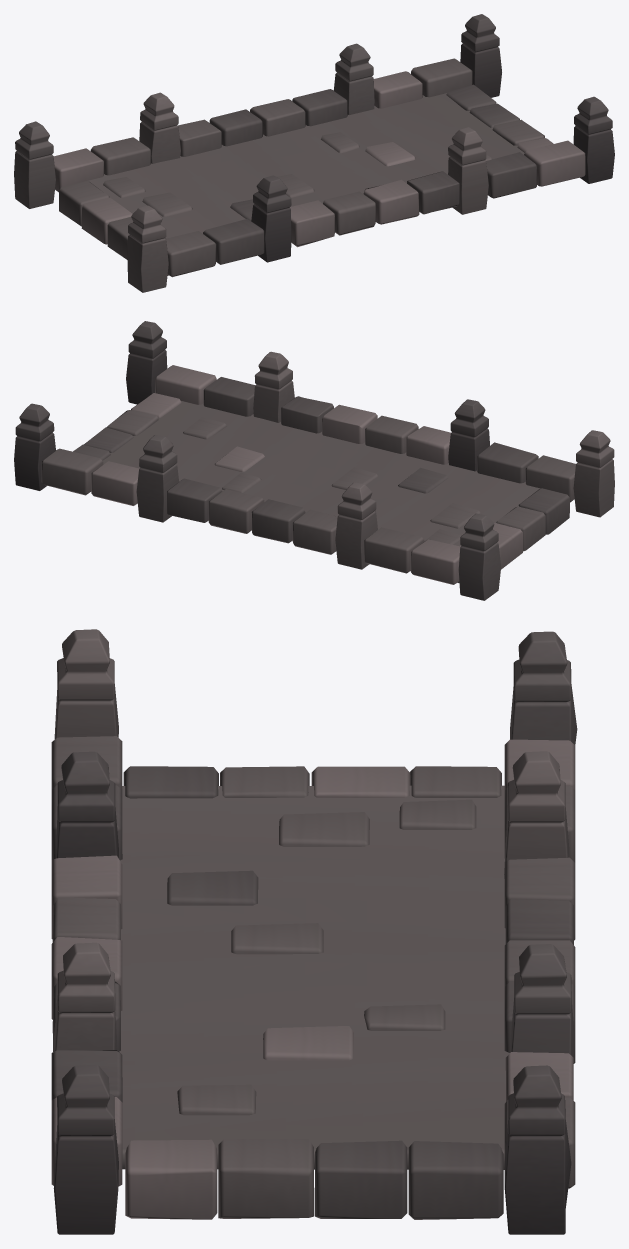
File: bridge.gltf
The picture shows the model from 3 angles, top to bottom: view 1: azimuth 30°, elevation 25°; view 2: azimuth 150°, elevation 25°; view 3: azimuth 270°, elevation 25°; orthographic projection. The views are drawn at different scales.
Parts seen in each view (by area): view 1: Bridge.01; view 2: Bridge.01; view 3: Bridge.01.
Boxes of the visible parts, x1,y1,x2,y2 form: Bridge.01: (14,14,614,292); Bridge.01: (14,321,614,600); Bridge.01: (51,629,577,1234).
Size of the model in its own units: 4.49 by 0.7551 by 2.16.
Materials: 1 (1 with a texture image).
